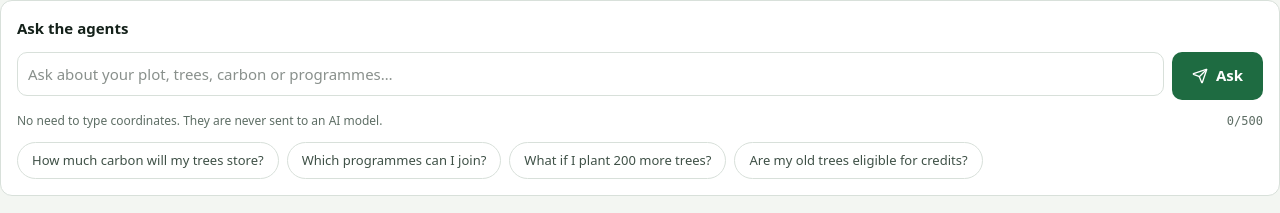
Test: AskBox › asks for a question instead of sending an empty one
Click the button "Ask": (1217, 76) [1172,52,1263,100]
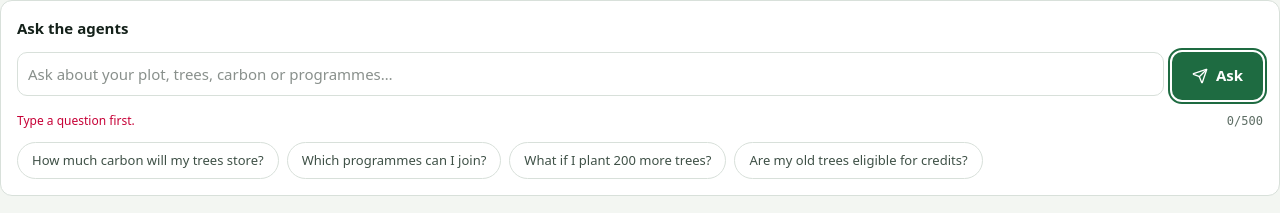
Expected: the text "Type a question first." is shown, [17,112,135,130]
